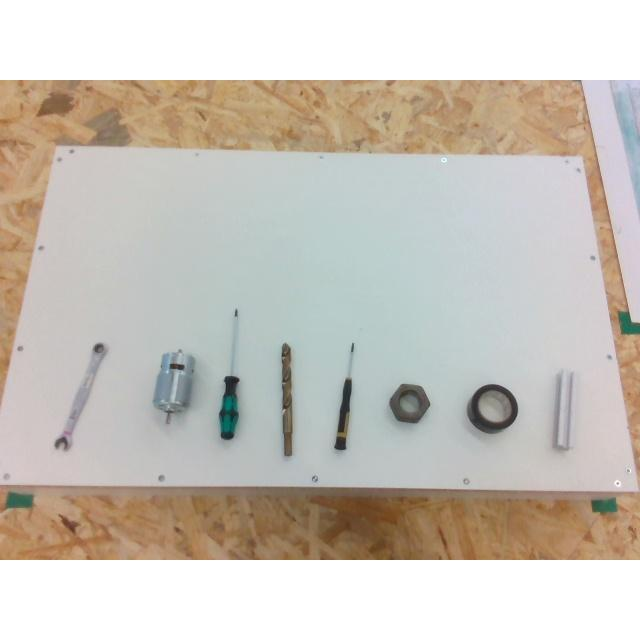Drill: (280, 344, 292, 456)
F20_20_G: (554, 370, 574, 450)
M30: (389, 384, 429, 422)
Motor2: (153, 349, 193, 423)
Screwdriver: (218, 307, 238, 439)
Wrench: (54, 342, 106, 450)
